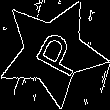P_NW: (22, 24, 83, 80)
